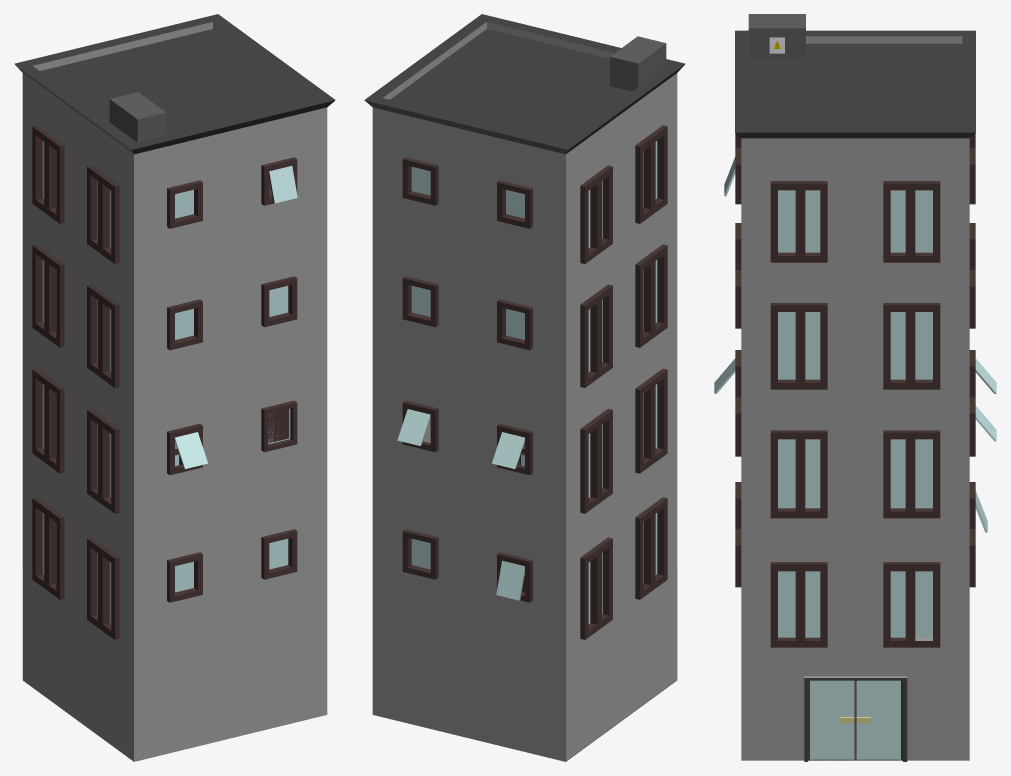
Rendered from Edificio1.fbx.
The picture shows the model from 3 angles, left to right: view 1: azimuth 30°, elevation 25°; view 2: azimuth 150°, elevation 25°; view 3: azimuth 270°, elevation 25°; orthographic projection. The views are drawn at different scales.
Visible parts, largest first — view 1: edificio; view 2: edificio; view 3: edificio.
Boxes of the visible parts, x1,y1,x2,y2 form: edificio: [14, 14, 335, 761]; edificio: [364, 14, 685, 761]; edificio: [714, 14, 996, 761].
Bounding box in the file's own units: 103 × 309 × 121.
